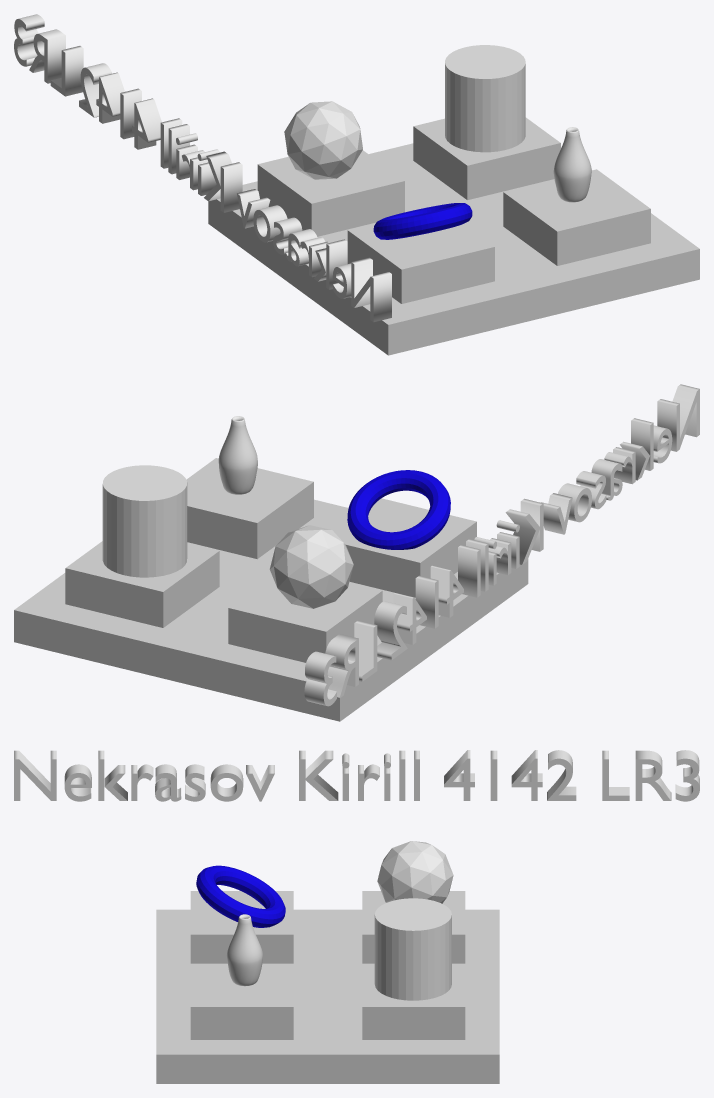
Rendered from project.fbx.
The picture shows the model from 3 angles, top to bottom: view 1: azimuth 30°, elevation 25°; view 2: azimuth 150°, elevation 25°; view 3: azimuth 270°, elevation 25°; orthographic projection. The views are drawn at different scales.
Parts seen in each view (by area): view 1: Grid, Text, Cylinder, Icosphere, Torus, BezierCurve; view 2: Grid, Text, Cylinder, Icosphere, Torus, BezierCurve; view 3: Grid, Text, Cylinder, Icosphere, Torus, BezierCurve.
Boxes of the visible parts, x1,y1,x2,y2 form: Grid: (208, 117, 699, 355); Text: (14, 14, 391, 322); Cylinder: (445, 45, 525, 152); Icosphere: (284, 101, 362, 179); Torus: (373, 203, 472, 239); BezierCurve: (553, 127, 591, 202); Grid: (14, 458, 528, 721); Text: (304, 384, 699, 706); Cylinder: (102, 465, 187, 577); Icosphere: (269, 525, 353, 608); Torus: (347, 470, 450, 549); BezierCurve: (218, 416, 257, 494); Grid: (156, 891, 499, 1083); Text: (14, 750, 699, 801); Cylinder: (374, 898, 451, 1000); Icosphere: (377, 841, 453, 903); Torus: (196, 865, 285, 927); BezierCurve: (226, 914, 262, 986).
Bounding box in the file's own units: 1779 × 421 × 1145.
